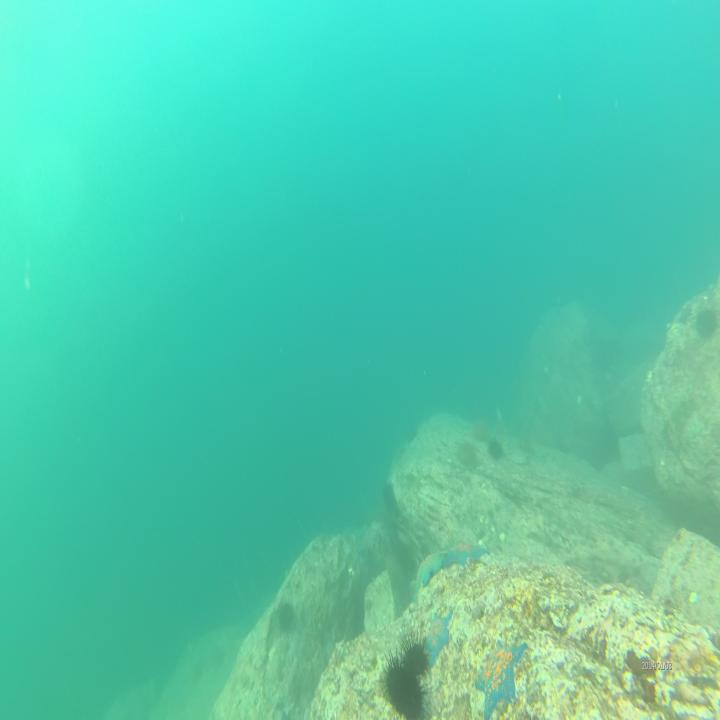echinus: (382, 646, 426, 720), (398, 632, 430, 676), (455, 436, 478, 480), (694, 306, 717, 342), (276, 600, 296, 638), (488, 435, 505, 467), (403, 415, 419, 445)
starfish: (472, 634, 528, 720), (410, 538, 446, 596), (420, 611, 454, 666), (446, 538, 492, 571)
